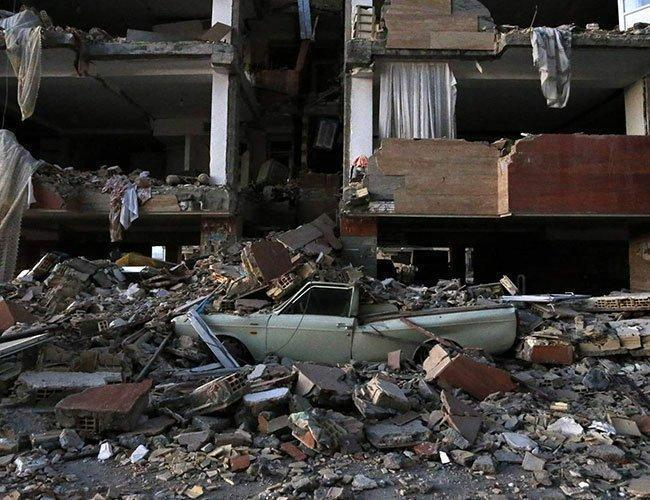destroyed: (6, 6, 641, 456)
